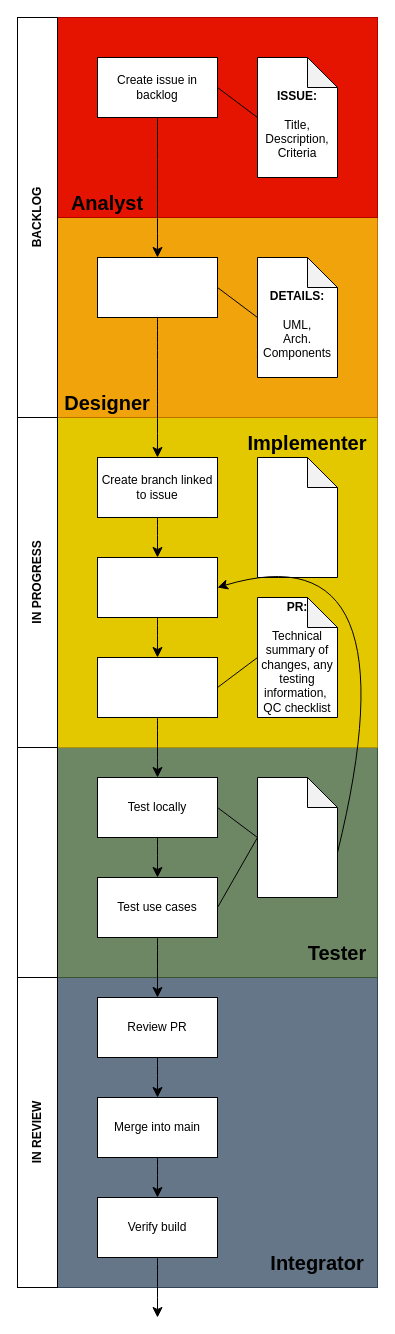
The diagram is 395 pixels wide and 1334 high, and some of its shapes have lost their labels. The box of each missing label's shape, as (x1, y1, x2, y2) in pixels:
Add design details: (96, 256, 218, 318)
BUG: Summary, Description, Reproduce?, Expected v. Actual: (256, 776, 338, 898)
Create PR: (96, 656, 218, 718)
IN TESTING: (16, 746, 58, 978)
QC Checklist: Builds? Standards? Comments? Linked?: (256, 456, 338, 578)
Write code: (96, 556, 218, 618)
